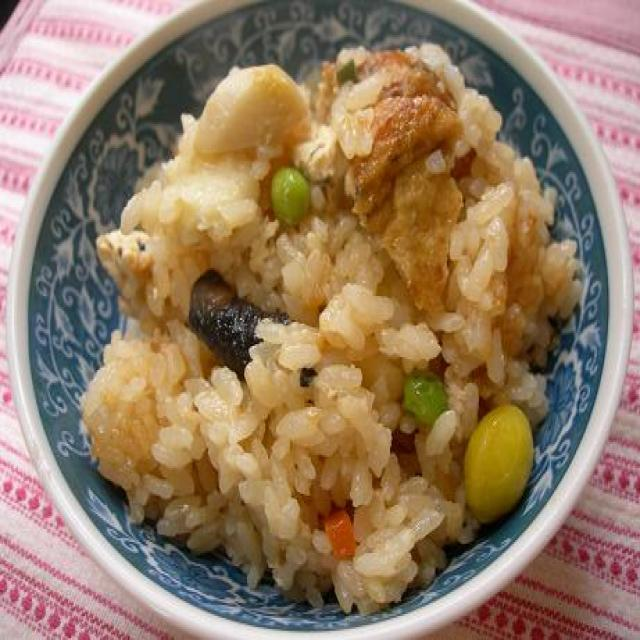米饭主食: (46, 52, 570, 592)
